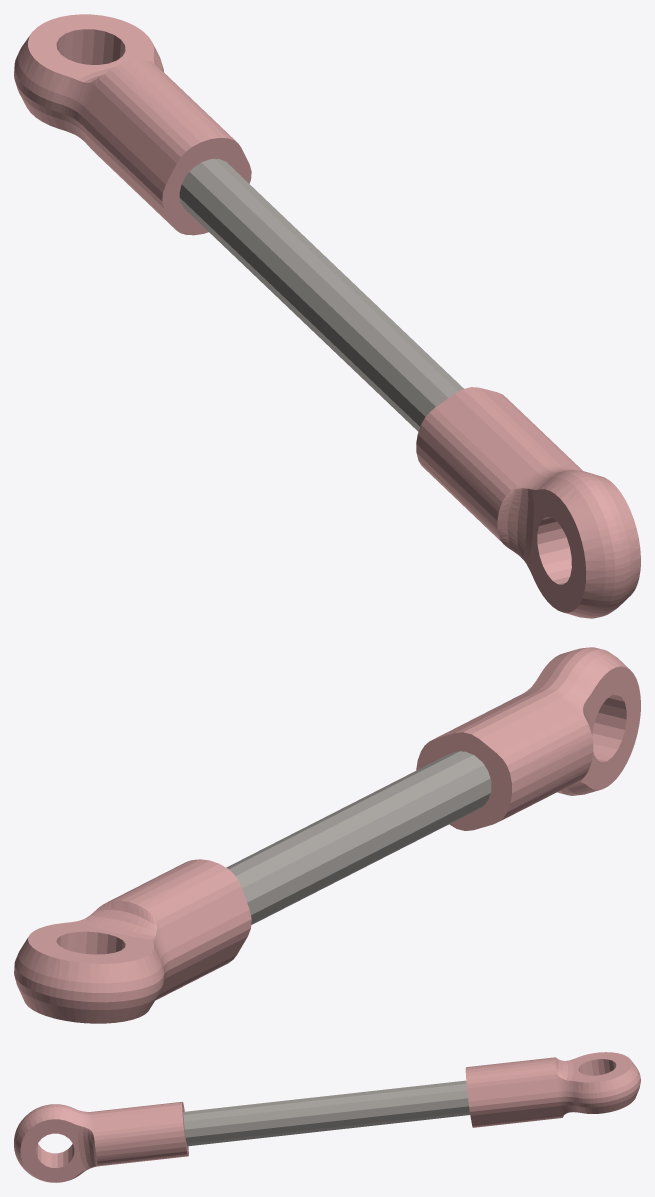
File: left-diff-bar-connection.glb
3 views of the same model, one above another, from view 1: azimuth 30°, elevation 25°; view 2: azimuth 150°, elevation 25°; view 3: azimuth 270°, elevation 25° (orthographic). The views are drawn at different scales.
Parts seen in each view (by area): view 1: Left Diff Bar Connection; view 2: Left Diff Bar Connection; view 3: Left Diff Bar Connection.
Part boxes in pixels (box(x1,y1,x2,y2)): Left Diff Bar Connection: box(14, 14, 640, 618); Left Diff Bar Connection: box(14, 647, 640, 1023); Left Diff Bar Connection: box(14, 1052, 640, 1182).
Size of the model in its own units: 0.00948 by 0.0153 by 0.0718.
